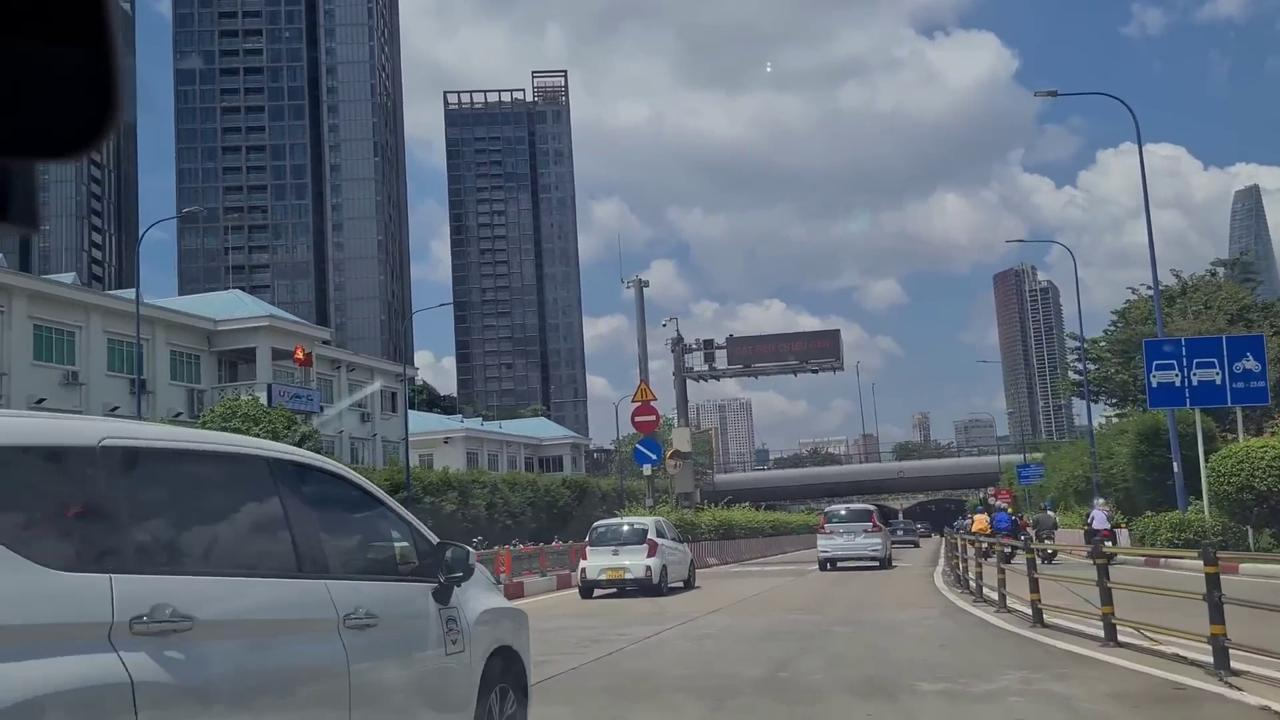Cấm đi ngược chiều: (629, 404, 660, 434)
Hướng phải đi vòng sang phải: (630, 437, 662, 468)
Làn đường cho từng xe: (1139, 331, 1273, 409)
Đuờng hẹp: (629, 379, 658, 403)
